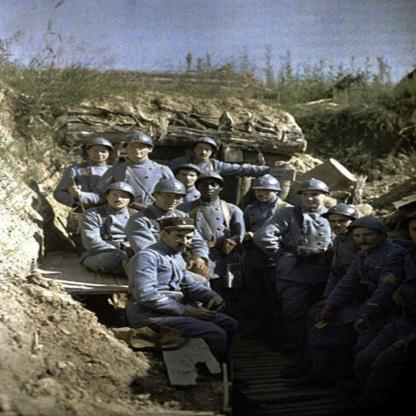Helmet: (104, 180, 138, 206), (348, 215, 387, 235), (151, 177, 187, 197), (294, 175, 329, 195), (192, 171, 227, 190), (248, 174, 282, 193), (86, 137, 116, 158), (192, 137, 219, 158), (123, 132, 156, 149), (320, 205, 356, 220), (175, 162, 203, 177), (410, 210, 416, 218)
